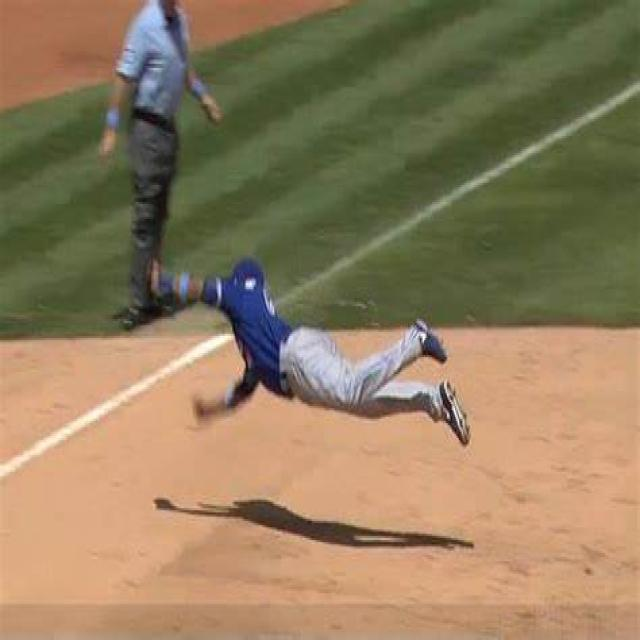lie: (171, 260, 475, 429)
stand: (129, 0, 198, 345)
